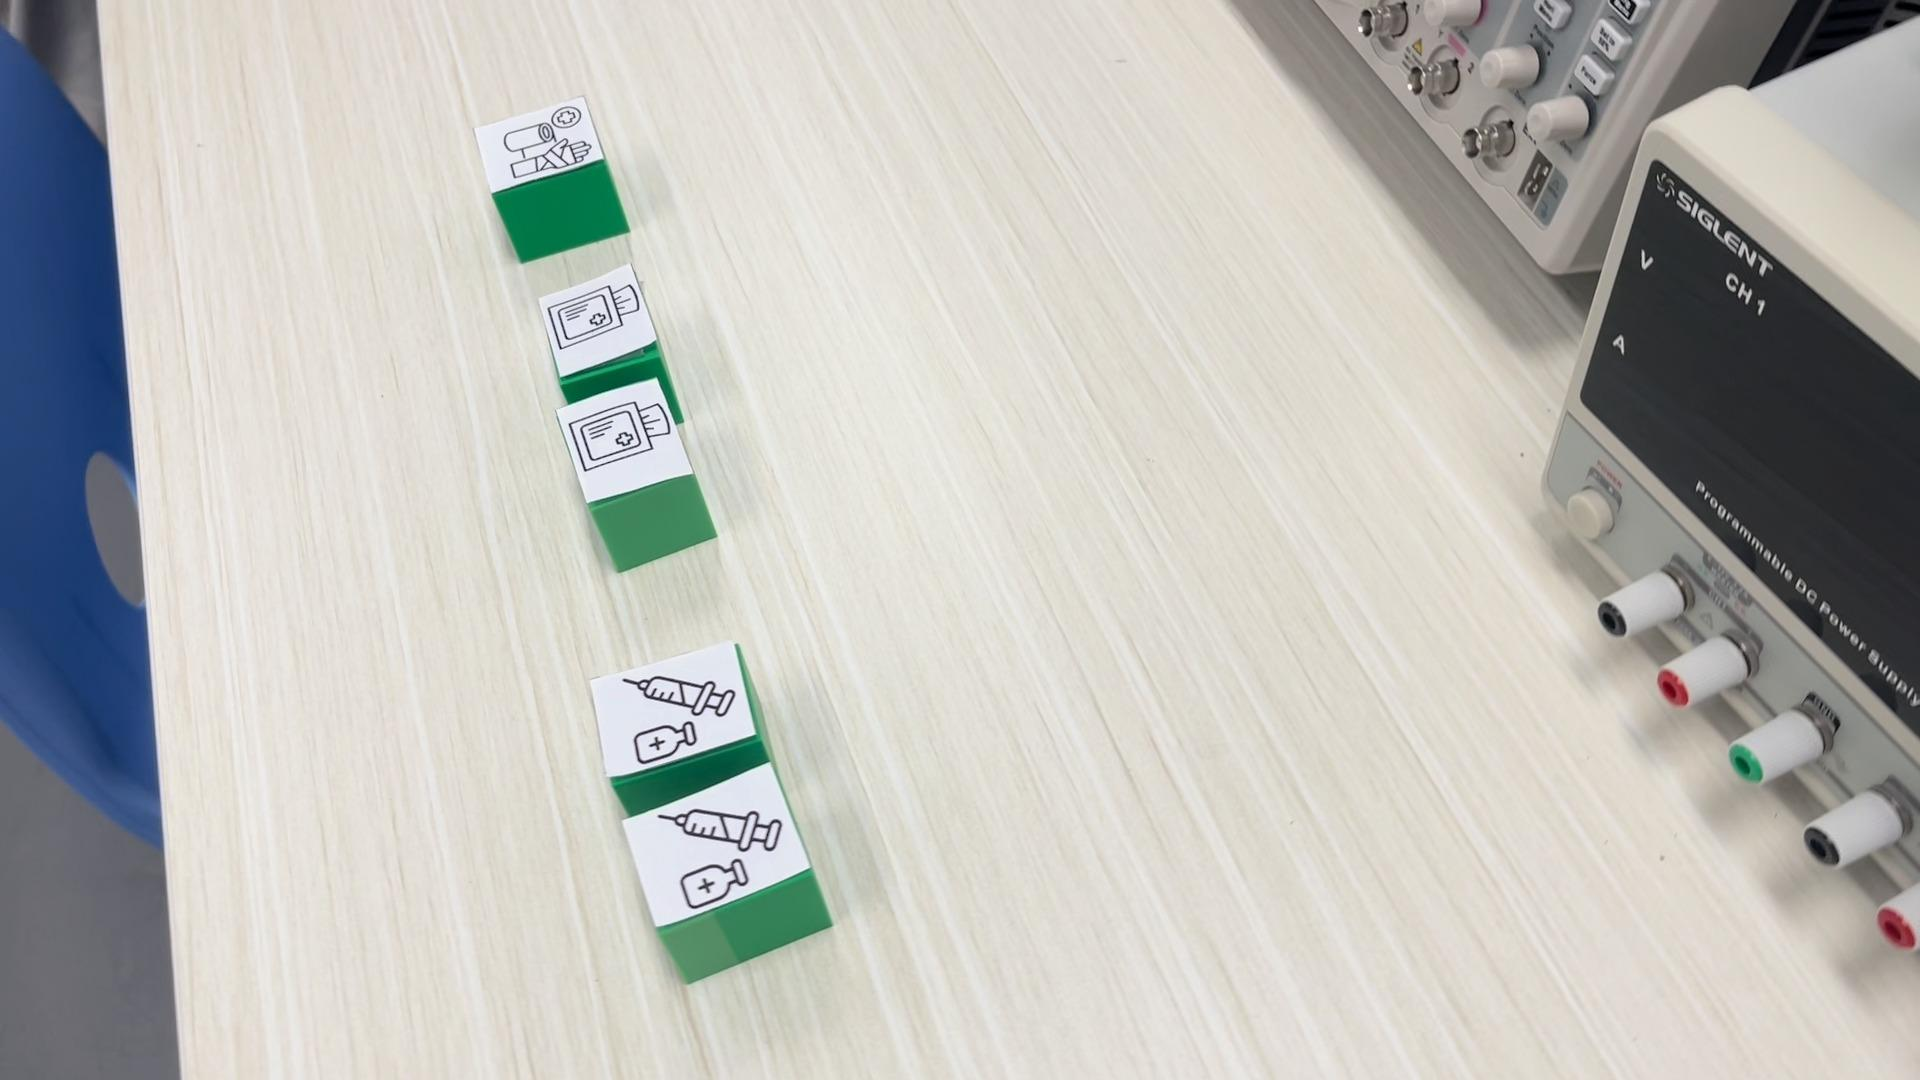Bandages: (469, 96, 630, 261)
Gauze: (555, 378, 719, 574), (541, 265, 669, 378)
antiseptic cream: (611, 762, 833, 985), (585, 640, 771, 786)
